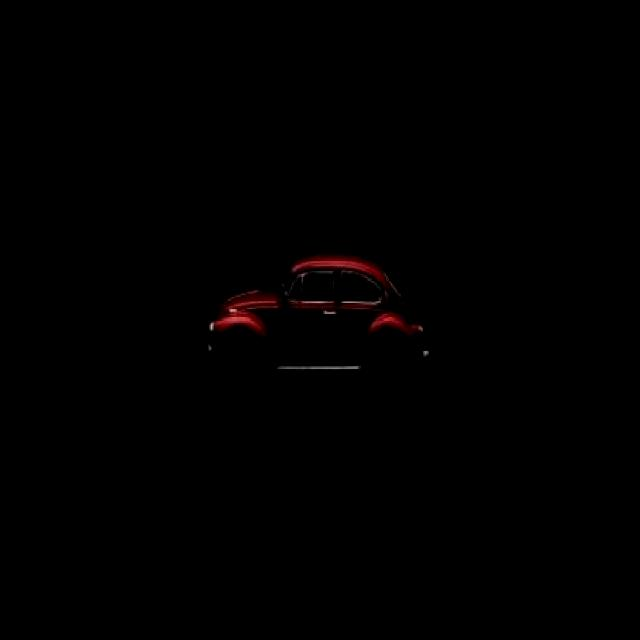car: (212, 260, 439, 394)
